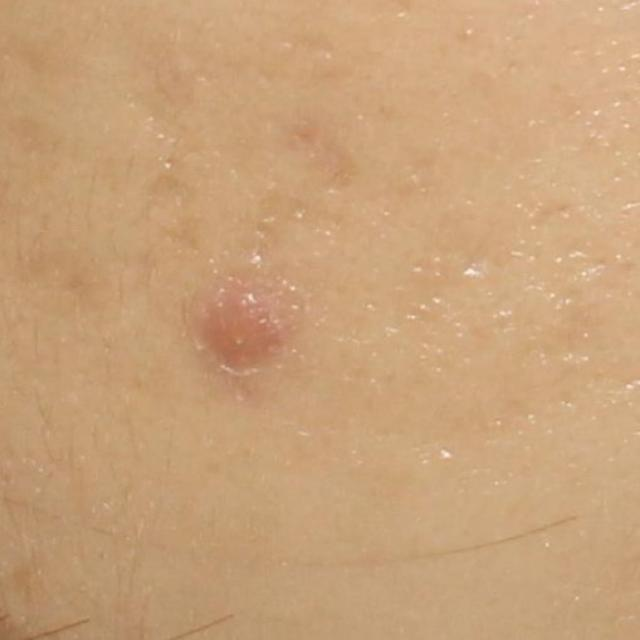nodule: (202, 290, 280, 365)
